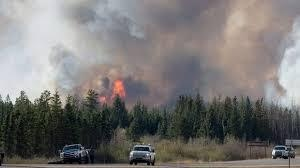fire: (81, 70, 130, 107)
